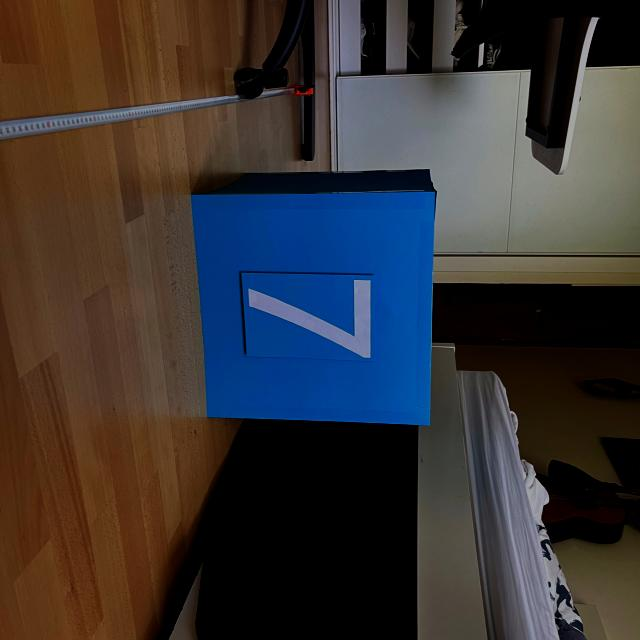box: (185, 166, 440, 428)
